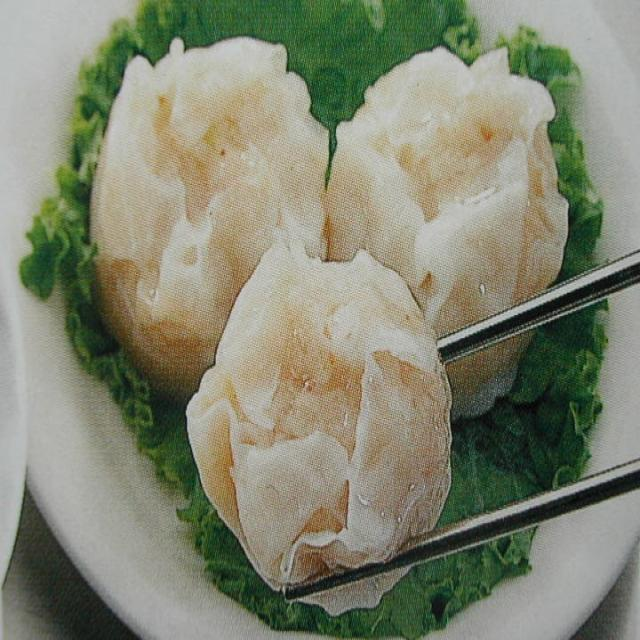带馅早点: (75, 44, 332, 405)
